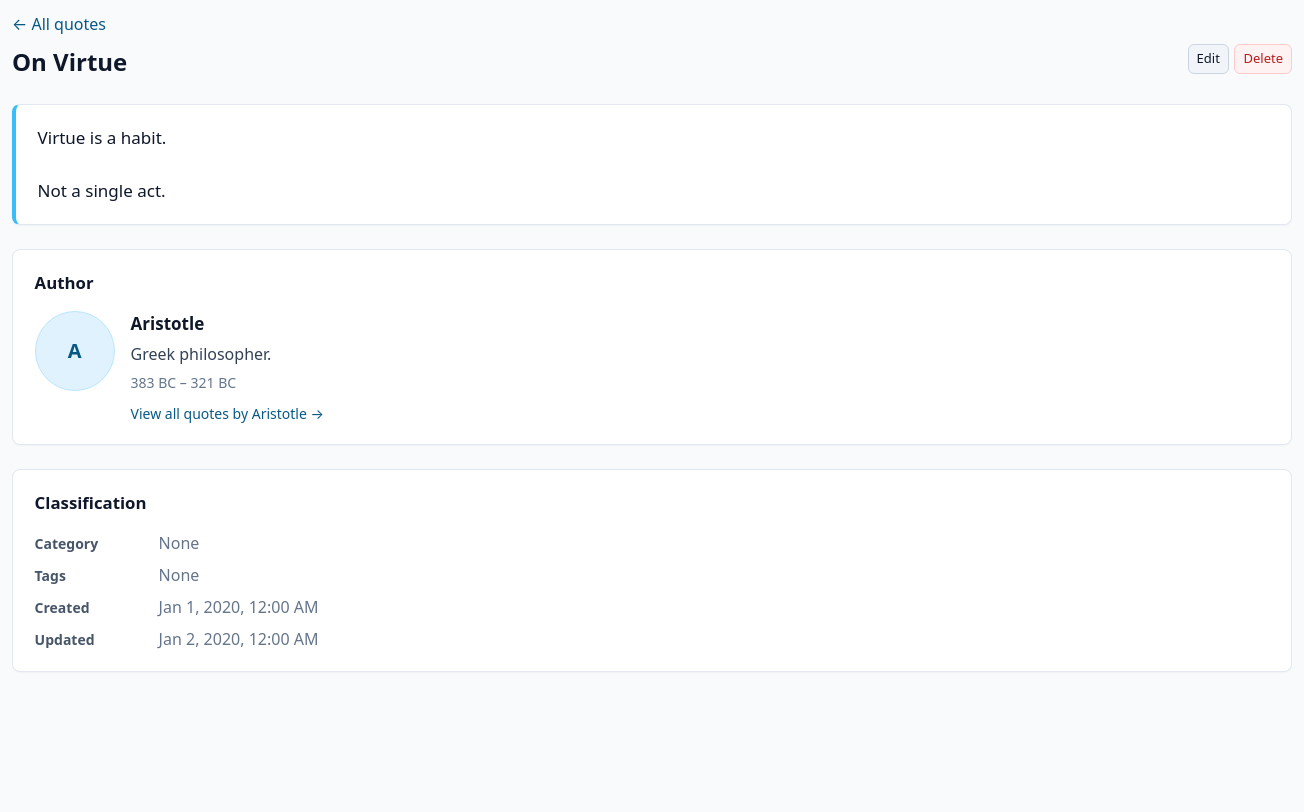
Scenario: QuoteDetailPage › inline edit affordance › Save submits a fully-projected QuoteWriteBody and exits edit mode on success
Expected: the heading "On Virtue" is shown, [12, 44, 127, 80]
Click the button with aria-label "Edit On Virtue" at (1208, 59), box [1188, 44, 1229, 74]
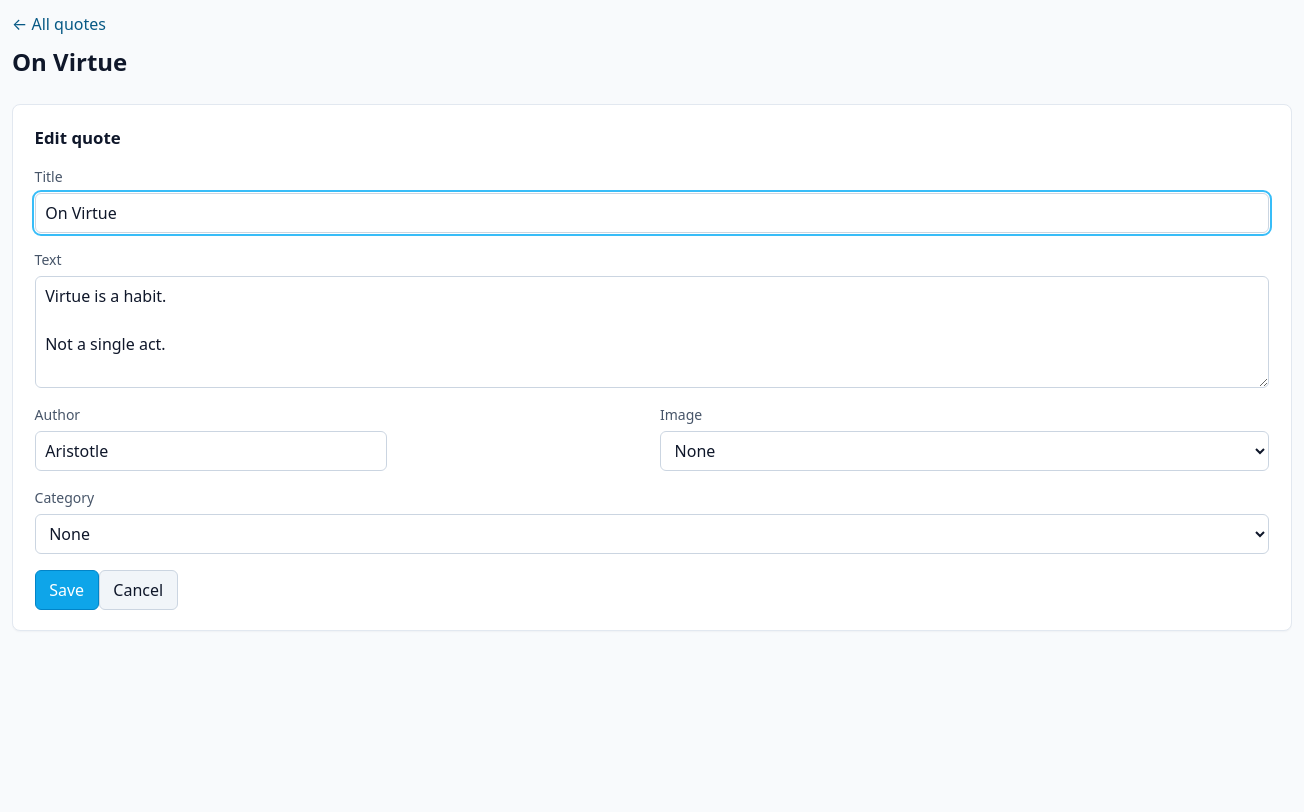
Replace the text in the field named "title — on virtue" with "Updated On Virtue" at (652, 213), box [35, 193, 1269, 233]
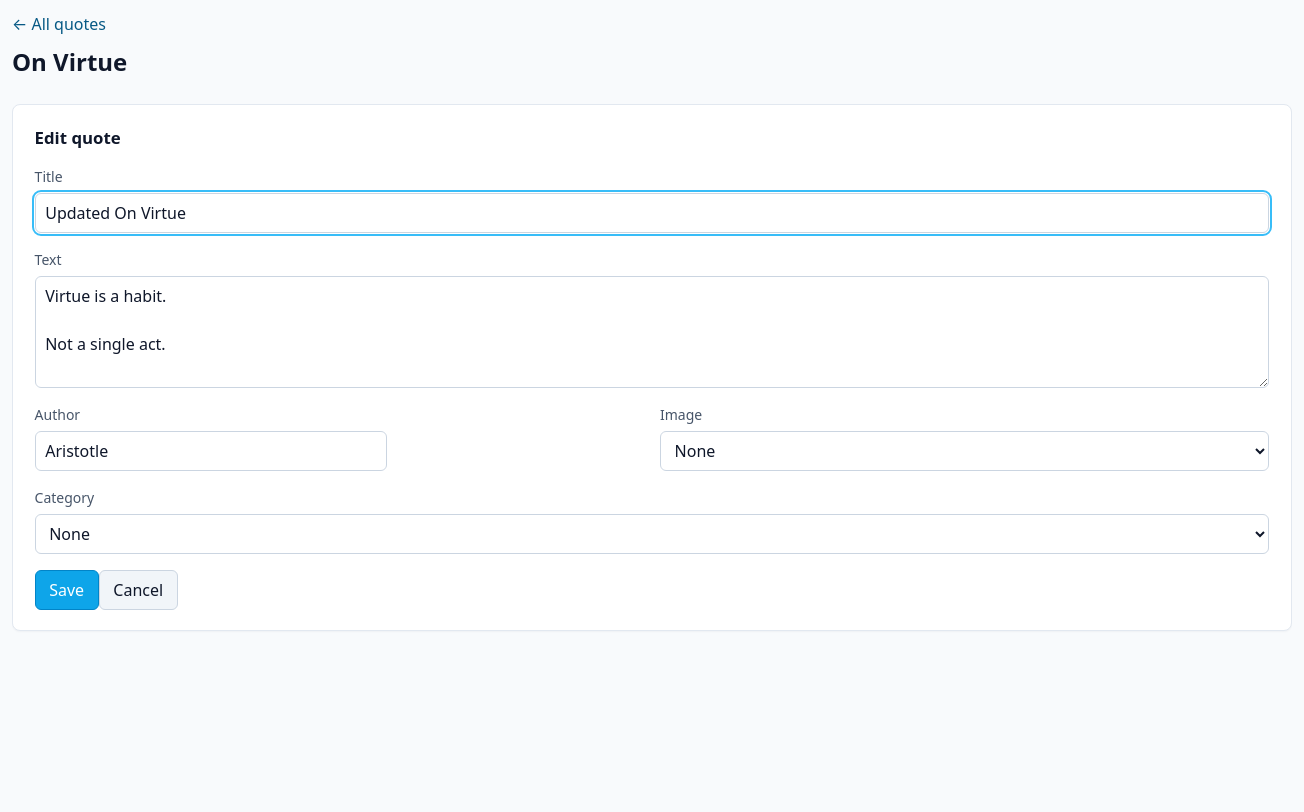
Replace the text in the text box named "text — on virtue" with "New text." at (652, 332), box [35, 276, 1269, 388]
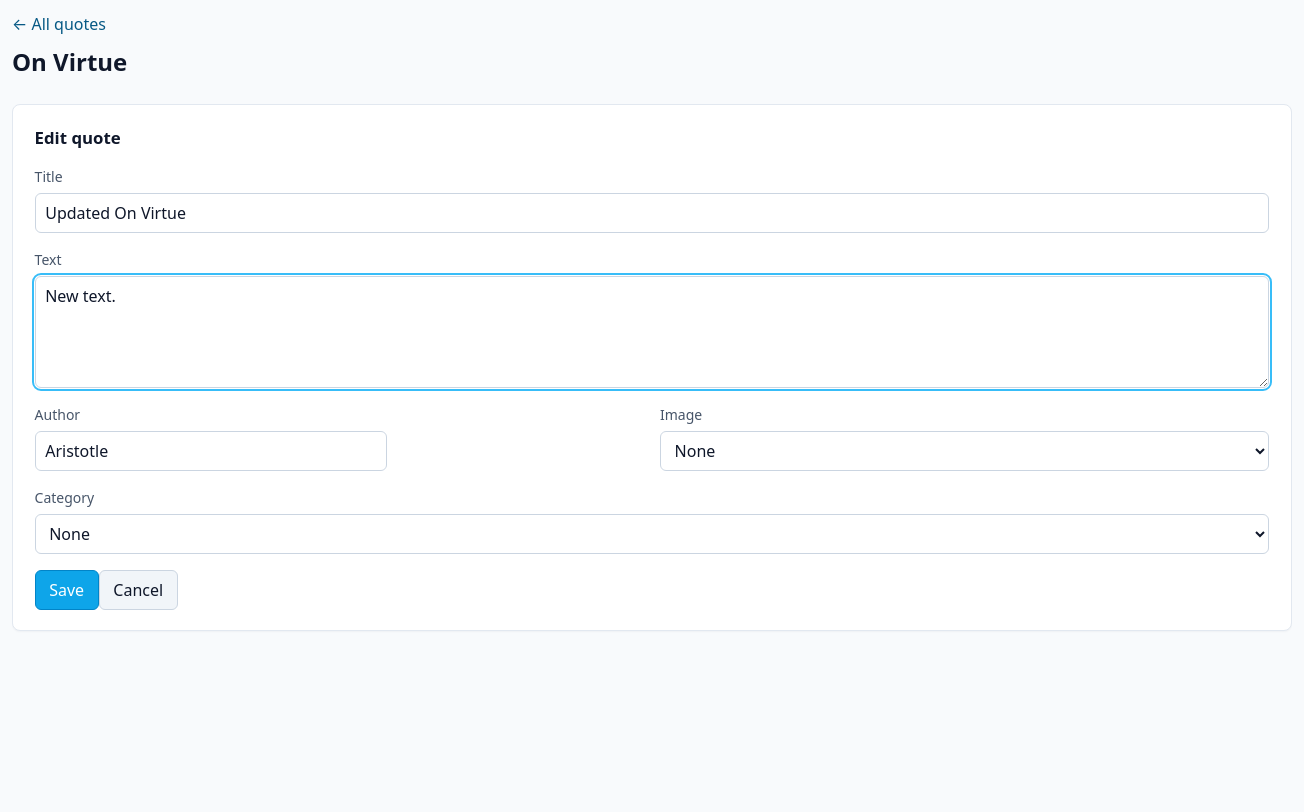
Click the button "Save" at (67, 590), box [35, 570, 99, 610]
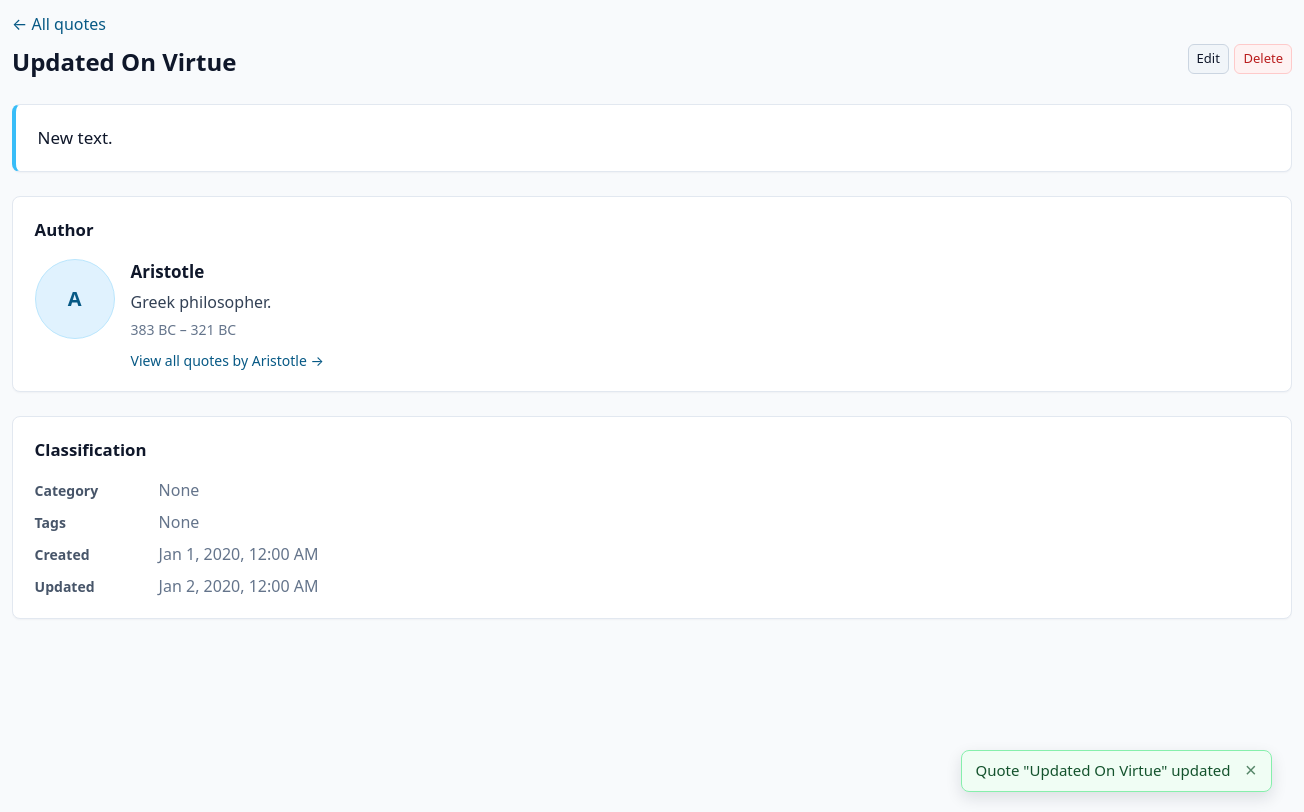
Expected: the heading "Updated On Virtue" is shown, [12, 44, 236, 80]
Expected: the heading "Edit quote" is gone
